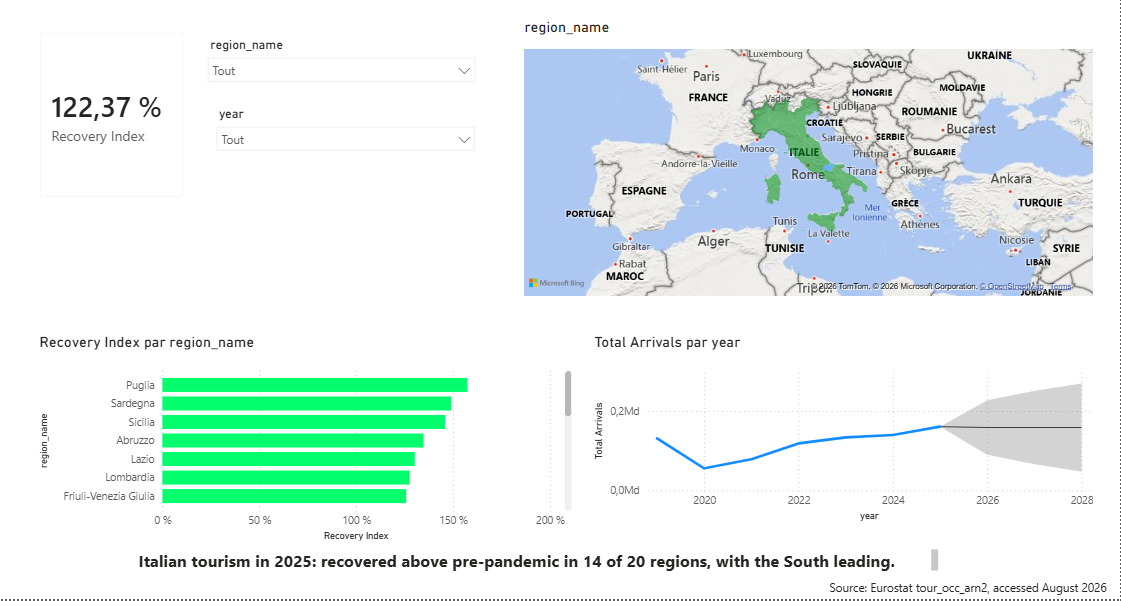

What the dashboard file says about the page in this screenshot:
{"tool":"powerbi","page":{"name":"Page 1","canvas":[1280,720],"ordinal":0},"visuals":[{"type":"cardVisual","fields":{"Data":["fct_yearly_arrivals.Recovery Index"]},"box":[0,51.4,280,194.3],"z":0},{"type":"textbox","box":[117.1,647.1,966,45.3],"z":1000},{"type":"textbox","box":[942.7,693,337.6,27.4],"z":2000},{"type":"barChart","fields":{"Category":["recovery_index.region_name"],"Y":["fct_yearly_arrivals.Recovery Index"]},"box":[22.9,322.9,1233.6,279.9],"z":3000},{"type":"lineChart","fields":{"Category":["fct_yearly_arrivals.year"],"Y":["fct_yearly_arrivals.Total Arrivals"]},"box":[291.4,68.6,640,177.1],"z":4000}]}

Visuals, with their boxes on the page's 1280x720 design canvas (x1, y1, x2, y2). These are canvas units, not pixel positions in the 1121x601 screenshot, which may show the page scaled, cropped or inside an application window:
cardVisual - fct_yearly_arrivals.Recovery Index: BBox(0, 51, 280, 246)
textbox: BBox(117, 647, 1083, 692)
textbox: BBox(943, 693, 1280, 720)
barChart - recovery_index.region_name x fct_yearly_arrivals.Recovery Index: BBox(23, 323, 1256, 603)
lineChart - fct_yearly_arrivals.year x fct_yearly_arrivals.Total Arrivals: BBox(291, 69, 931, 246)
